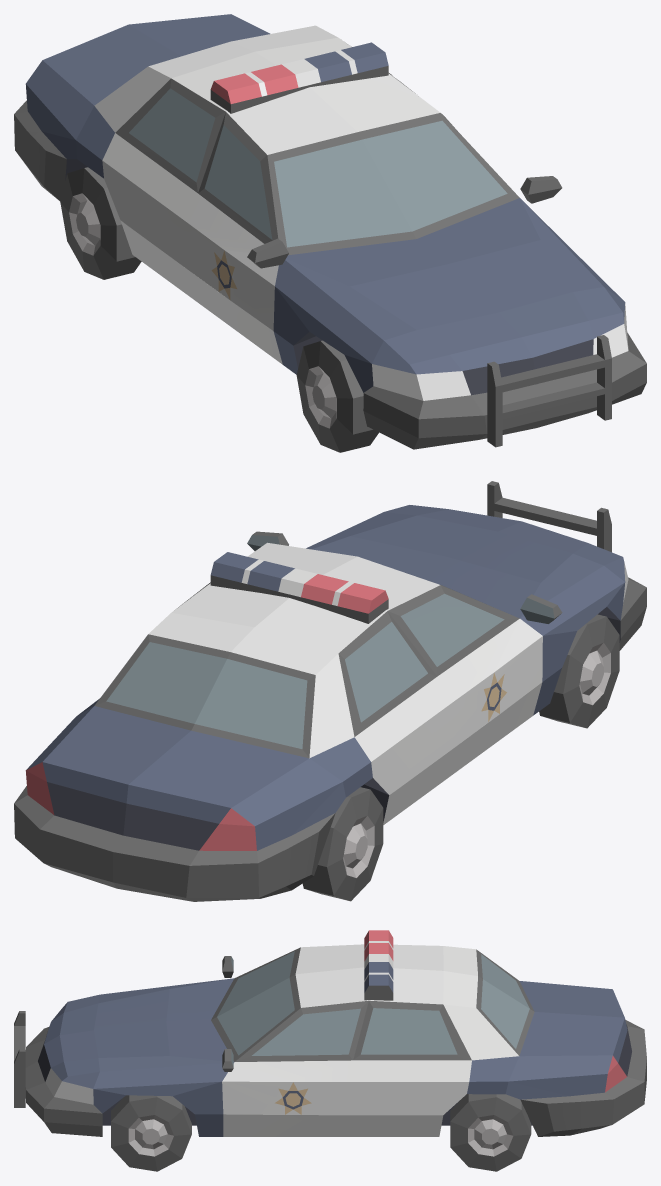
The model's file is police.glb.
3 renders of one model, top to bottom at view 1: azimuth 30°, elevation 25°; view 2: azimuth 150°, elevation 25°; view 3: azimuth 270°, elevation 25°, orthographic. The views are drawn at different scales.
Visible parts, largest first — view 1: car_police_base, windows, car_police_wheel_FR, car_police_wheel_BR, headlight_R, sirenlight_red, sirenlight_blue, headlight_L; view 2: car_police_base, windows, car_police_wheel_BR, car_police_wheel_FR, sirenlight_red, sirenlight_blue, rearlight_R, rearlight_L; view 3: car_police_base, windows, car_police_wheel_BL, car_police_wheel_FL, sirenlight_blue, headlight_L, sirenlight_red, rearlight_L.
Boxes of the visible parts, bbox=[...] form: car_police_base: bbox=[14, 14, 646, 449]; windows: bbox=[129, 88, 507, 247]; car_police_wheel_FR: bbox=[296, 340, 378, 452]; car_police_wheel_BR: bbox=[60, 167, 141, 279]; headlight_R: bbox=[372, 364, 470, 400]; sirenlight_red: bbox=[210, 64, 298, 103]; sirenlight_blue: bbox=[304, 42, 388, 82]; headlight_L: bbox=[593, 304, 628, 357]; car_police_base: bbox=[14, 481, 646, 901]; windows: bbox=[106, 593, 504, 748]; car_police_wheel_BR: bbox=[302, 787, 383, 901]; car_police_wheel_FR: bbox=[539, 614, 619, 728]; sirenlight_red: bbox=[301, 574, 388, 613]; sirenlight_blue: bbox=[210, 552, 294, 591]; rearlight_R: bbox=[199, 808, 256, 850]; rearlight_L: bbox=[25, 762, 54, 814]; car_police_base: bbox=[14, 941, 646, 1136]; windows: bbox=[217, 951, 529, 1055]; car_police_wheel_BL: bbox=[450, 1094, 531, 1171]; car_police_wheel_FL: bbox=[111, 1095, 191, 1171]; sirenlight_blue: bbox=[364, 962, 393, 993]; headlight_L: bbox=[45, 1068, 93, 1104]; sirenlight_red: bbox=[364, 930, 393, 961]; rearlight_L: bbox=[605, 1056, 626, 1092].
Bounding box in the file's own units: 2.19 × 1.59 × 5.44.
